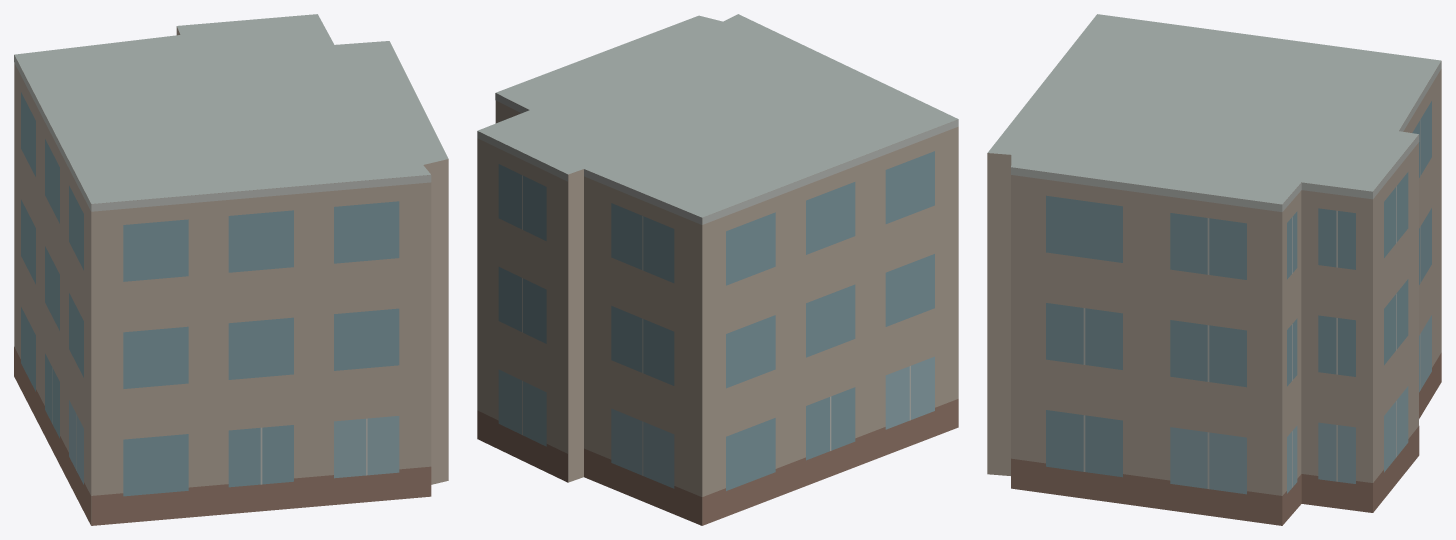
File: survey-upis-32531064.glb
3 views of the same model, side by side, from view 1: azimuth 30°, elevation 25°; view 2: azimuth 150°, elevation 25°; view 3: azimuth 270°, elevation 25° (orthographic). The views are drawn at different scales.
Parts seen in each view (by area): view 1: survey-upis-32531064.tmp; view 2: survey-upis-32531064.tmp; view 3: survey-upis-32531064.tmp.
Boxes of the visible parts, box(x1,y1,x2,y2) form: survey-upis-32531064.tmp: box(14, 14, 448, 525); survey-upis-32531064.tmp: box(477, 14, 958, 525); survey-upis-32531064.tmp: box(987, 14, 1441, 525).
Size of the model in its own units: 12.98 by 10.2 by 13.08.
